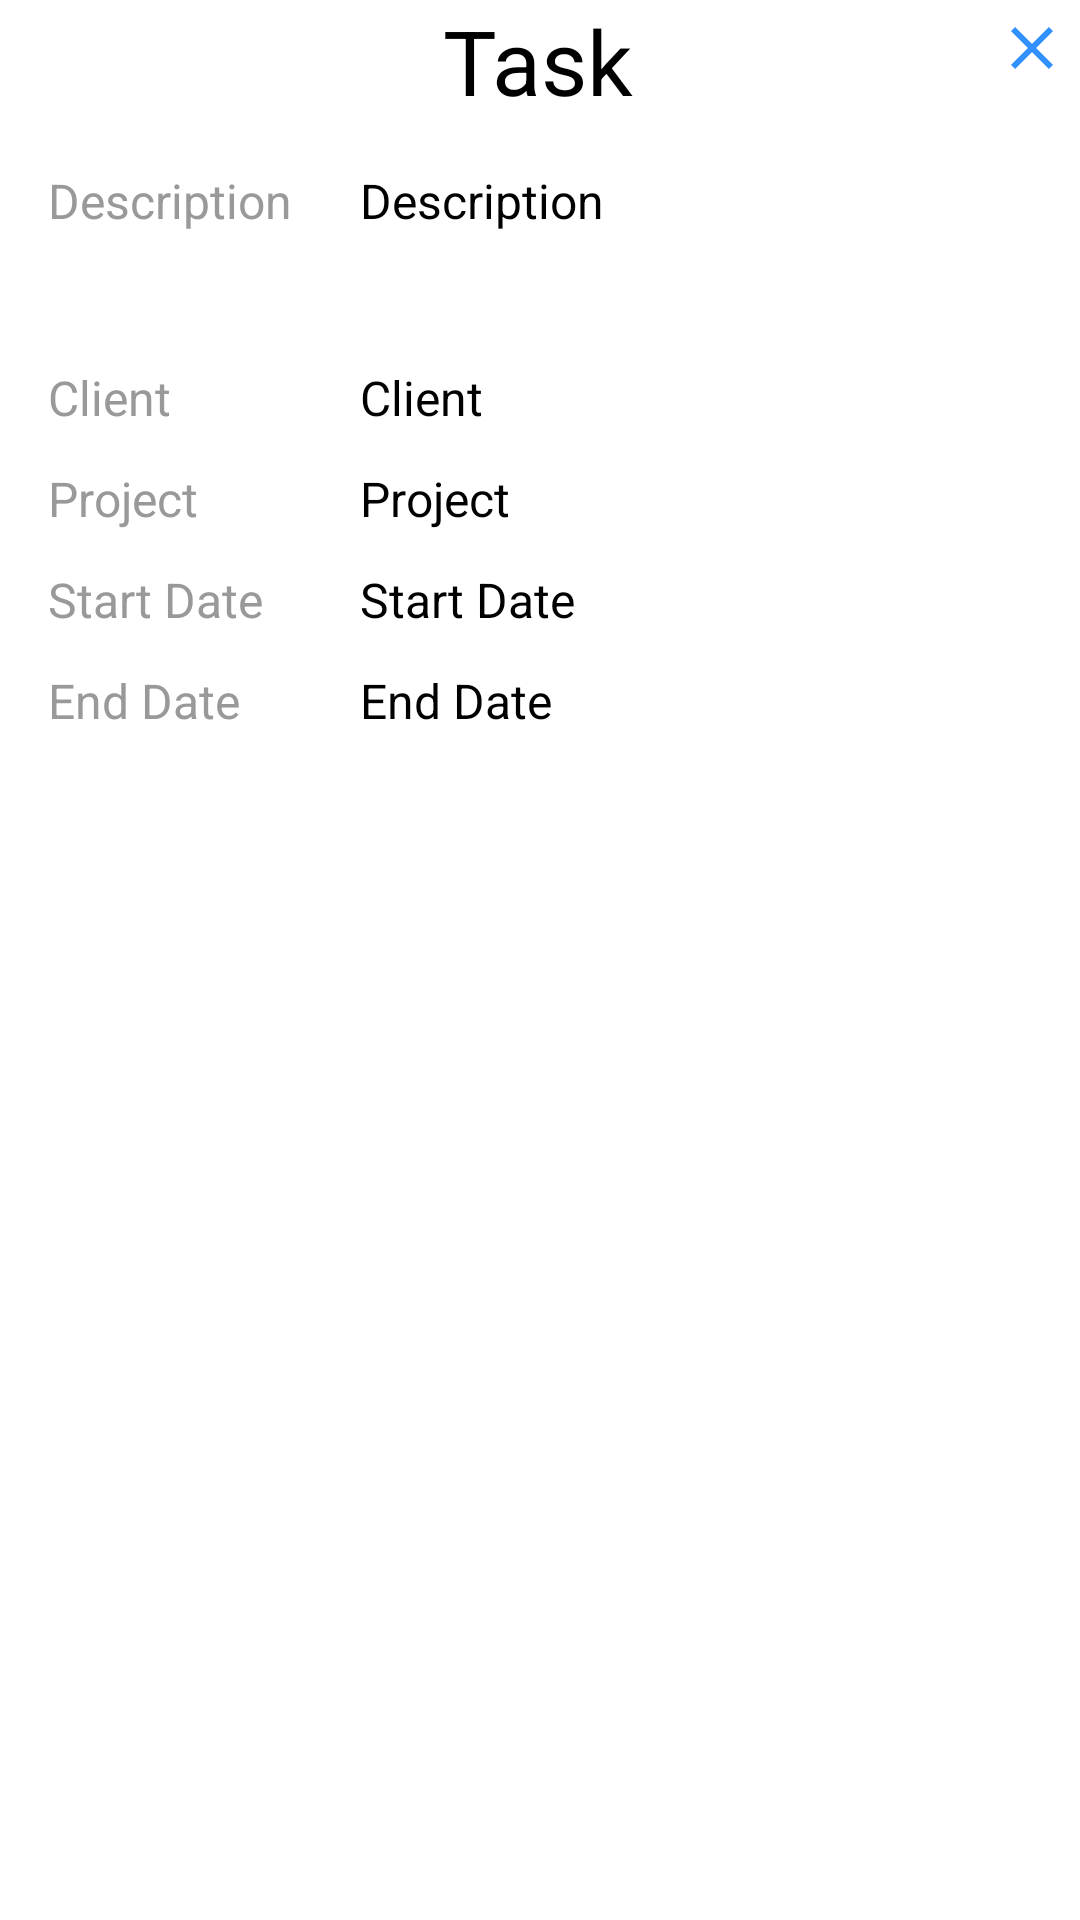

Point at icon controls on the screen. Image size 1080px×1920px, points as (x=x, y=y).
close: (x=1032, y=48)
